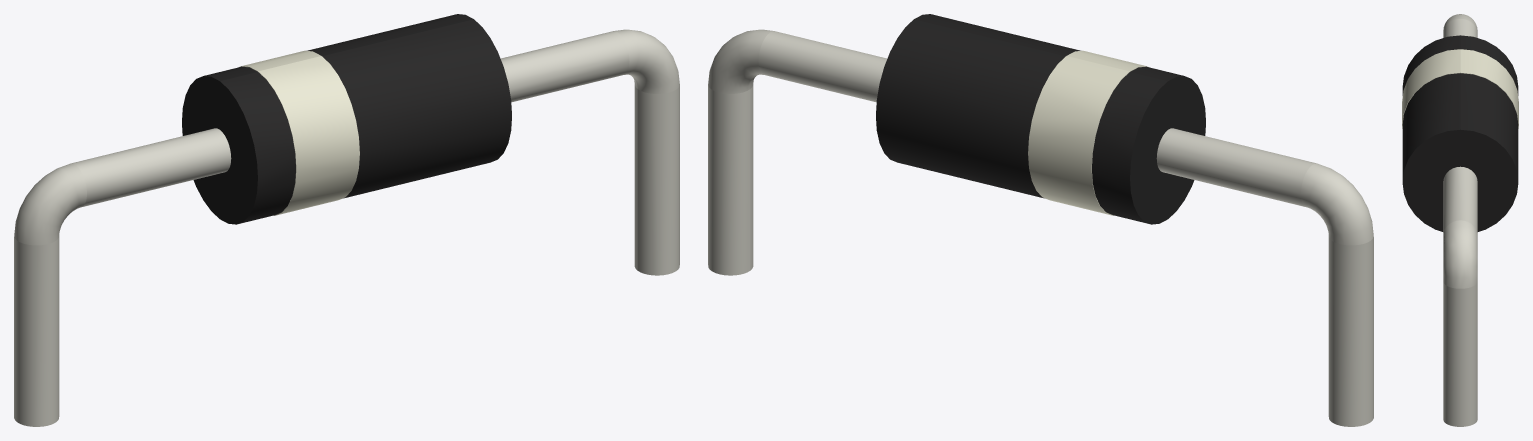
File: kc-d_do-41_sod81_p12.70mm_horizontal.glb
3 views of the same model, side by side, from view 1: azimuth 30°, elevation 25°; view 2: azimuth 150°, elevation 25°; view 3: azimuth 270°, elevation 25° (orthographic). The views are drawn at different scales.
Visible parts, largest first — view 1: 0_0_0_0, 0.6666666666666666_0.6666666666666666_0.5833333333333334_0.8, 0.75_0.75_0.6666666666666666_0; view 2: 0_0_0_0, 0.6666666666666666_0.6666666666666666_0.5833333333333334_0.8, 0.75_0.75_0.6666666666666666_0; view 3: 0_0_0_0, 0.6666666666666666_0.6666666666666666_0.5833333333333334_0.8, 0.75_0.75_0.6666666666666666_0.
Part boxes in pixels (bbox=[...]): 0_0_0_0: bbox=[182, 14, 511, 224]; 0.6666666666666666_0.6666666666666666_0.5833333333333334_0.8: bbox=[14, 29, 679, 426]; 0.75_0.75_0.6666666666666666_0: bbox=[239, 50, 359, 215]; 0_0_0_0: bbox=[876, 14, 1205, 224]; 0.6666666666666666_0.6666666666666666_0.5833333333333334_0.8: bbox=[708, 29, 1373, 426]; 0.75_0.75_0.6666666666666666_0: bbox=[1028, 50, 1148, 215]; 0_0_0_0: bbox=[1402, 35, 1518, 231]; 0.6666666666666666_0.6666666666666666_0.5833333333333334_0.8: bbox=[1443, 14, 1477, 426]; 0.75_0.75_0.6666666666666666_0: bbox=[1402, 49, 1518, 128].
Size of the model in its own units: 1.35 by 0.571 by 0.272.
